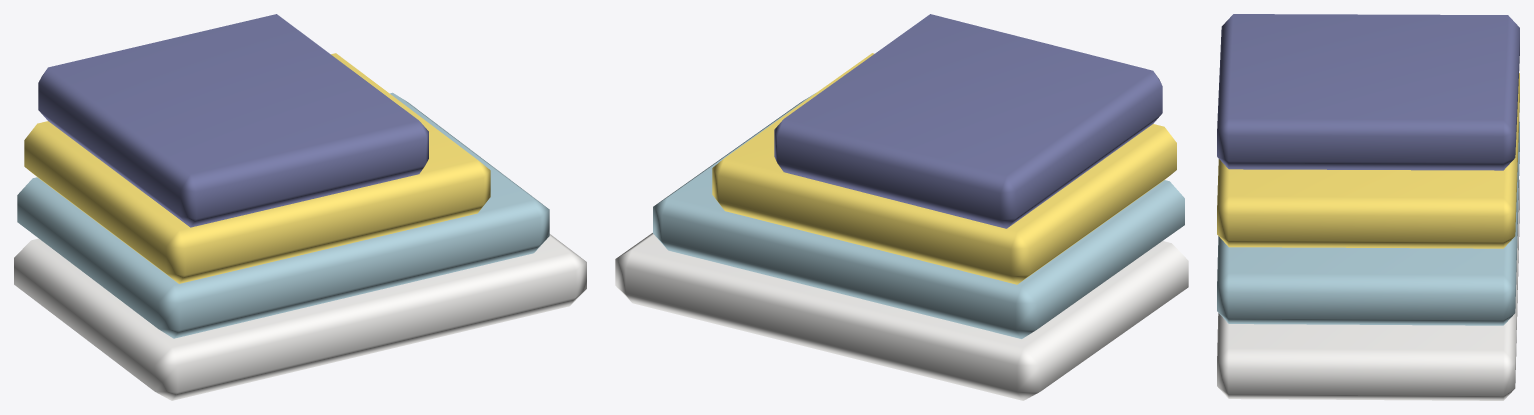
The model's file is Linen_1.glb.
3 renders of one model, left to right at view 1: azimuth 30°, elevation 25°; view 2: azimuth 150°, elevation 25°; view 3: azimuth 270°, elevation 25°, orthographic. The views are drawn at different scales.
Visible parts, largest first — view 1: Linen_1; view 2: Linen_1; view 3: Linen_1.
Part boxes in pixels (x1,y1,x2,y2): Linen_1: [14, 14, 586, 400]; Linen_1: [615, 14, 1188, 400]; Linen_1: [1217, 14, 1519, 400].
Bounding box in the file's own units: 0.6102 × 0.2988 × 0.3893.
Materials: 1 (1 with a texture image).
